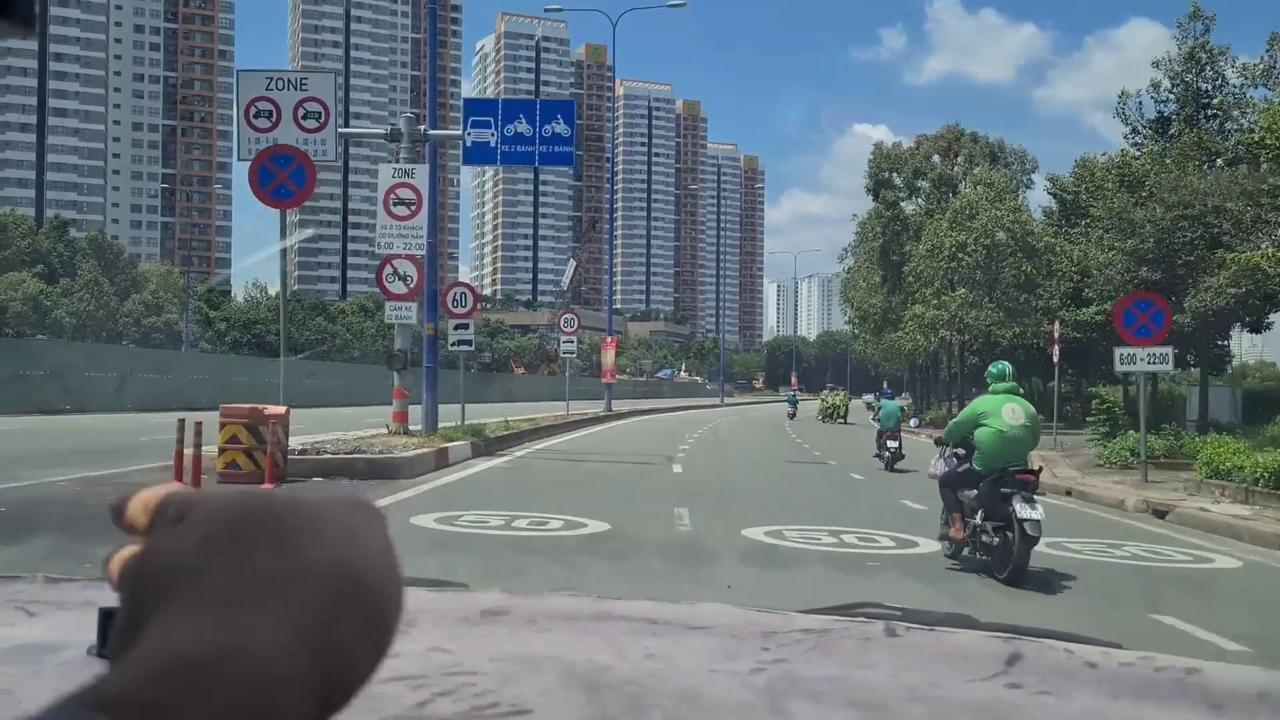Biển phụ: (1112, 346, 1176, 374), (446, 318, 477, 353), (384, 299, 419, 325), (559, 334, 578, 358)
Cấm cac phương tiện hoạt động trong khung giờ cố định: (233, 67, 338, 163), (376, 162, 429, 257)
Cấm dừng - Cấm đỗ: (247, 144, 318, 210), (1110, 290, 1174, 347)
Cấm xe máy: (375, 254, 425, 302)
GIơi hạn tốc độ 60Km/h: (443, 280, 478, 318)
Giới hạn tốc độ 80Km/h: (557, 312, 581, 336)
Làn đường cho từng xe: (459, 95, 578, 169)
